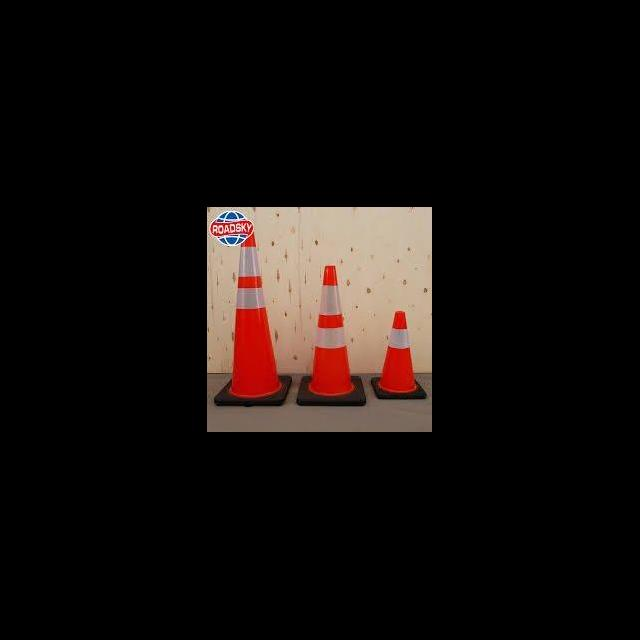Safety Cone: (223, 226, 294, 408), (296, 260, 369, 408), (374, 306, 429, 403)
